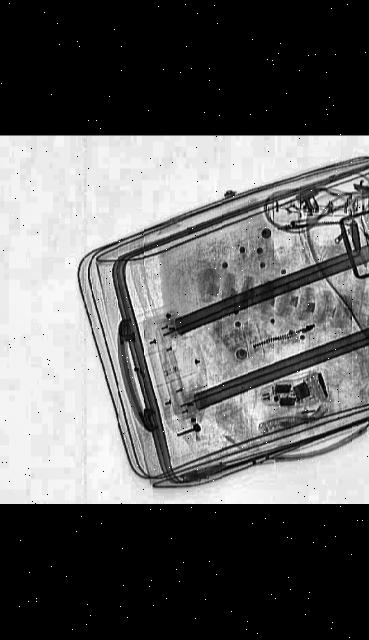Scissors: (344, 224, 369, 269)
